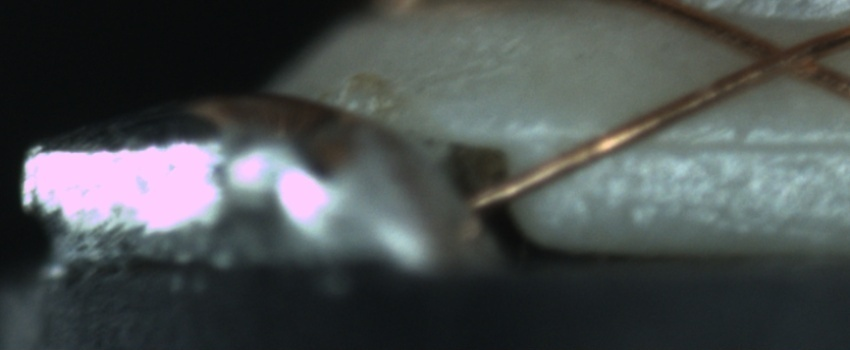CL: (737, 23, 840, 90)
DL: (550, 113, 845, 177)
